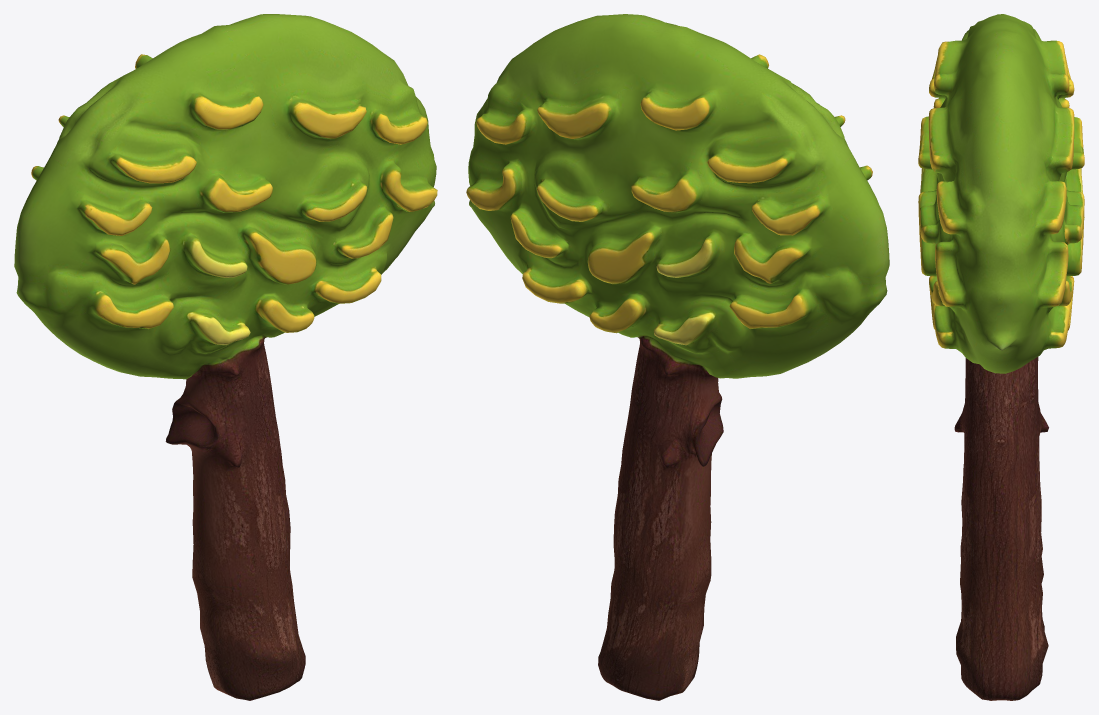
Rendered from cartoon-tree-a.glb.
3 renders of one model, left to right at view 1: azimuth 30°, elevation 25°; view 2: azimuth 150°, elevation 25°; view 3: azimuth 270°, elevation 25°, orthographic. The views are drawn at different scales.
Visible parts, largest first — view 1: tripo_node_57a7ce0f-9126-4196-90fc-e857775bcdb3; view 2: tripo_node_57a7ce0f-9126-4196-90fc-e857775bcdb3; view 3: tripo_node_57a7ce0f-9126-4196-90fc-e857775bcdb3.
Part boxes in pixels (bbox=[...]): tripo_node_57a7ce0f-9126-4196-90fc-e857775bcdb3: bbox=[14, 14, 437, 700]; tripo_node_57a7ce0f-9126-4196-90fc-e857775bcdb3: bbox=[466, 14, 889, 700]; tripo_node_57a7ce0f-9126-4196-90fc-e857775bcdb3: bbox=[918, 14, 1084, 700].
Bounding box in the file's own units: 0.6404 × 0.9781 × 0.2299.
Materials: 1 (1 with a texture image).
